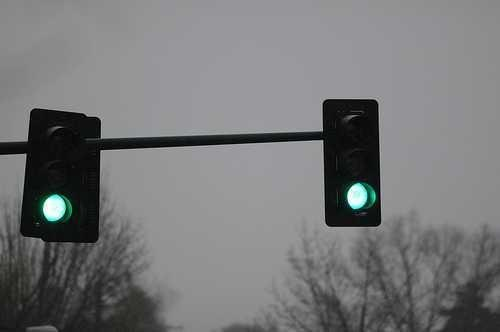2: (30, 110, 83, 236), (334, 101, 379, 223)
red traffic light: (34, 190, 78, 228), (339, 182, 378, 216)
